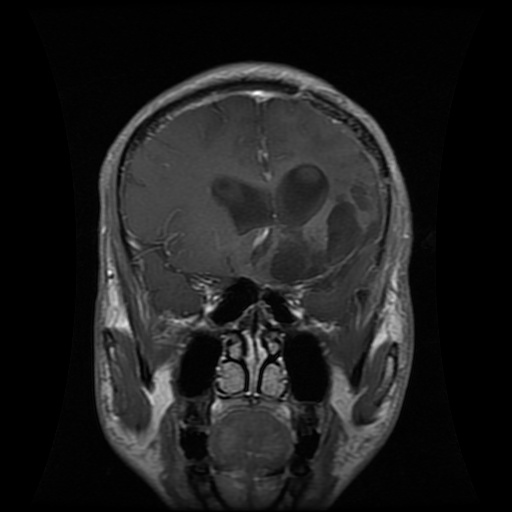glioma: (268, 178, 383, 293)
